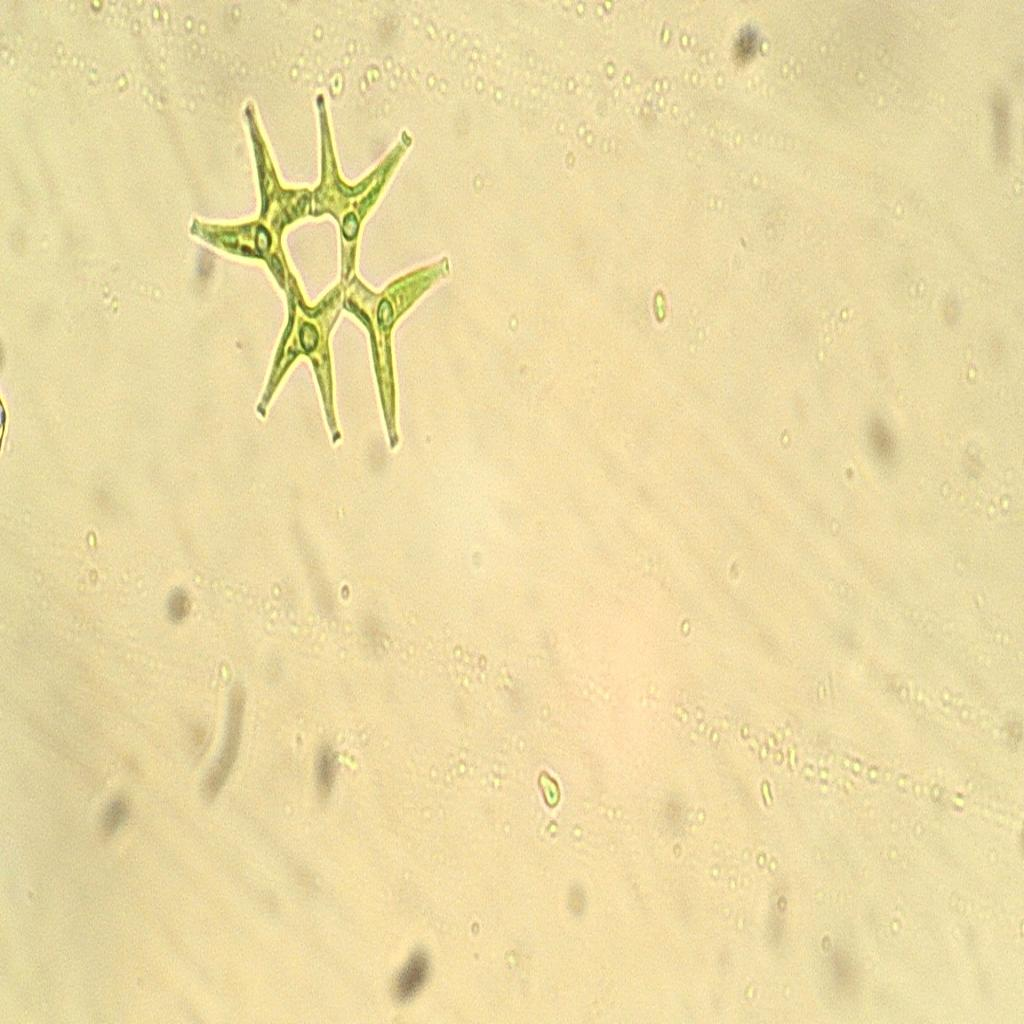Pediastrum_75FI: (184, 61, 466, 476)
